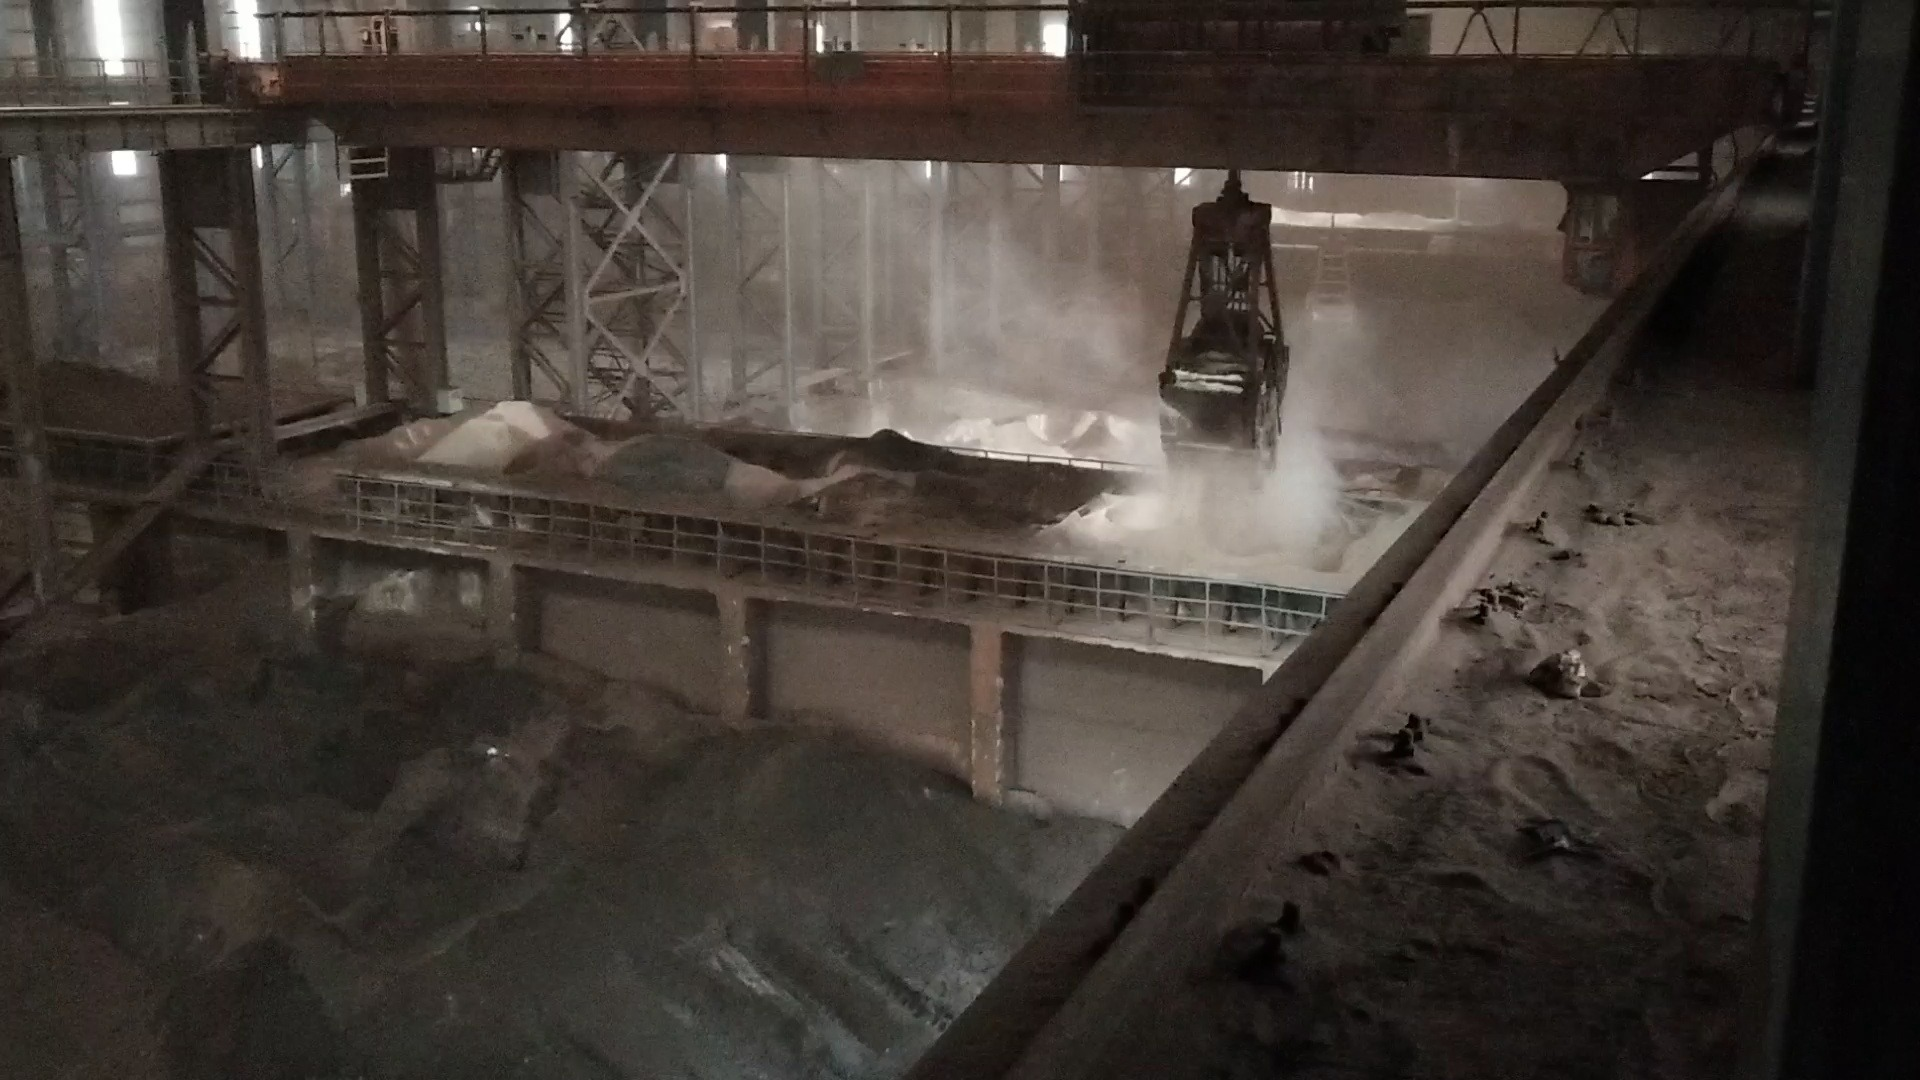dust: (749, 160, 1345, 570)
grab: (1154, 179, 1292, 487)
